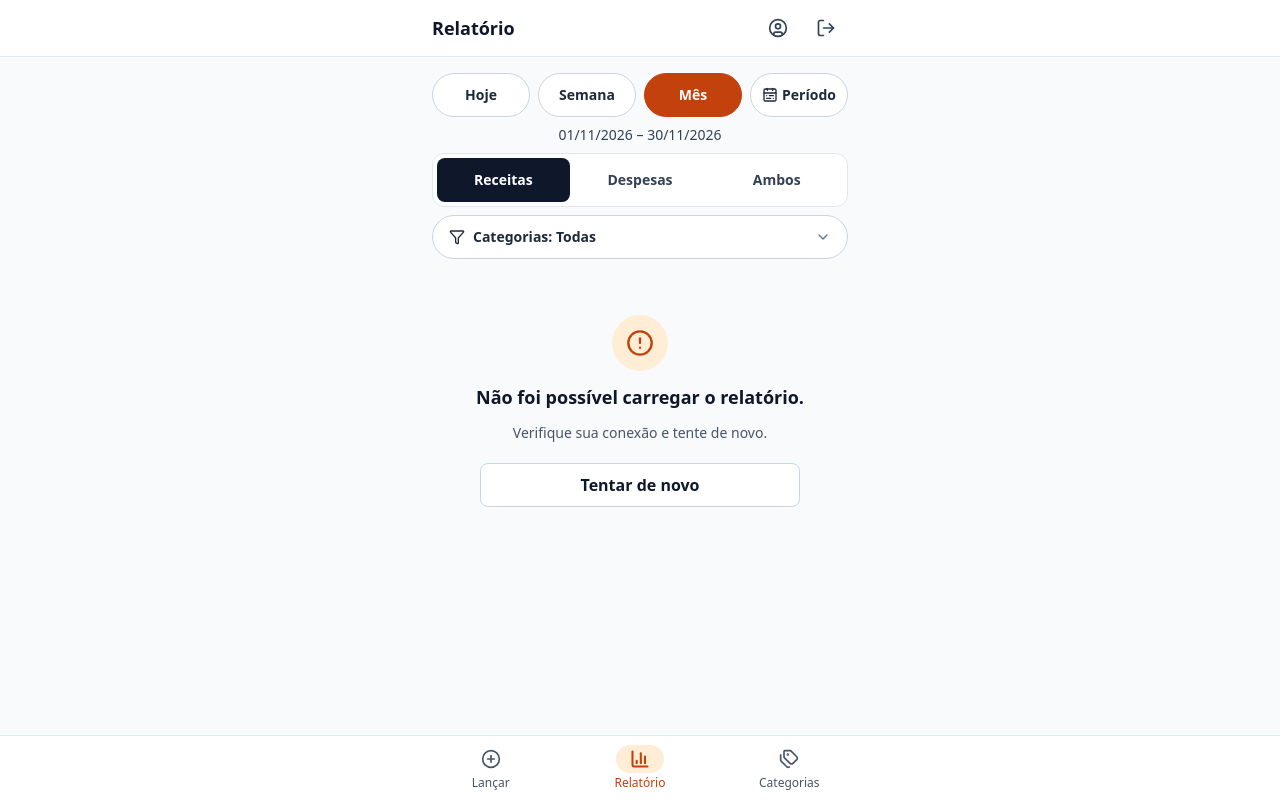
Test: RelatorioPage › erro de rede mostra "Tentar de novo" e recarrega
Expected: the element "Período" is shown, [432, 73, 848, 117]
Expected: the heading "Não foi possível carregar o relatório." is shown, [476, 383, 804, 411]
What coordinates should you click on to do the following:
click the button "Tentar de novo"
I would click on:
 (640, 485)
Its box is [480, 463, 800, 507].
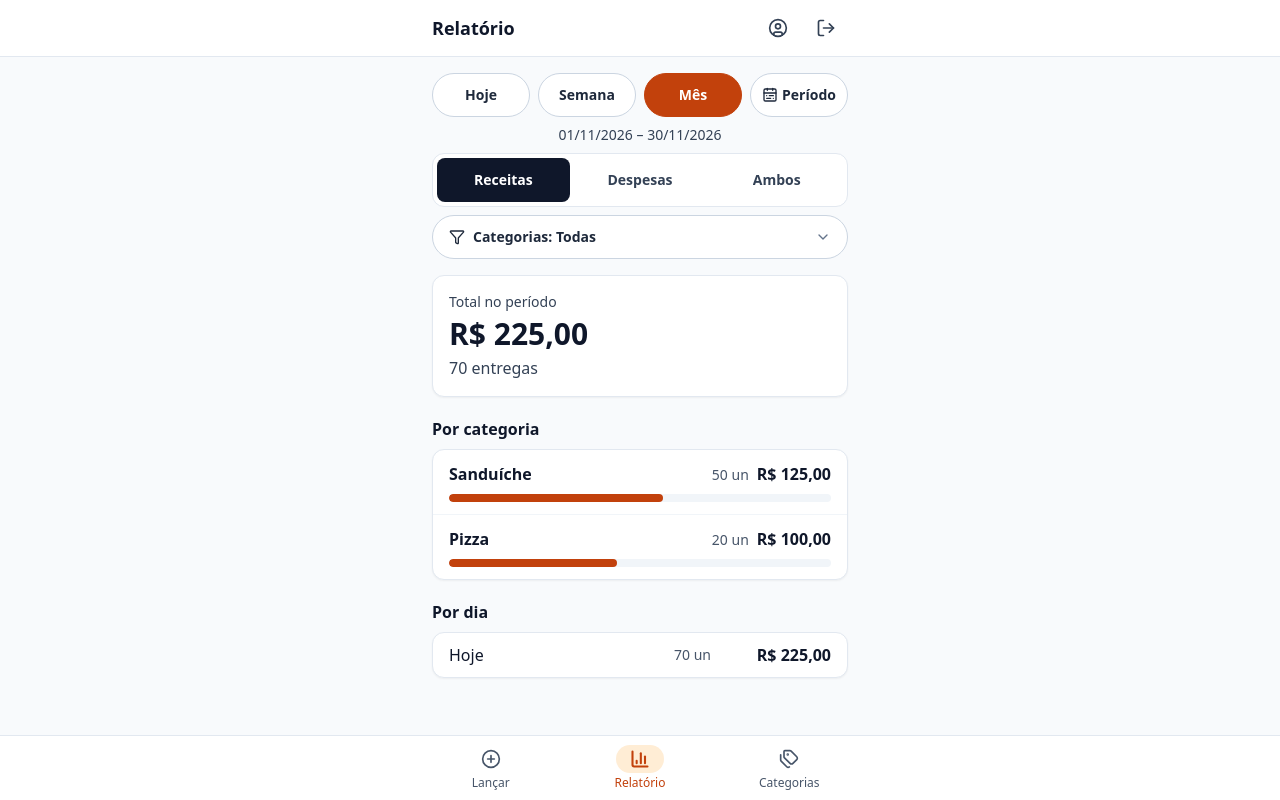
Now the text "R$ 225,00" below "Total no período" is shown, box [449, 313, 588, 354]
